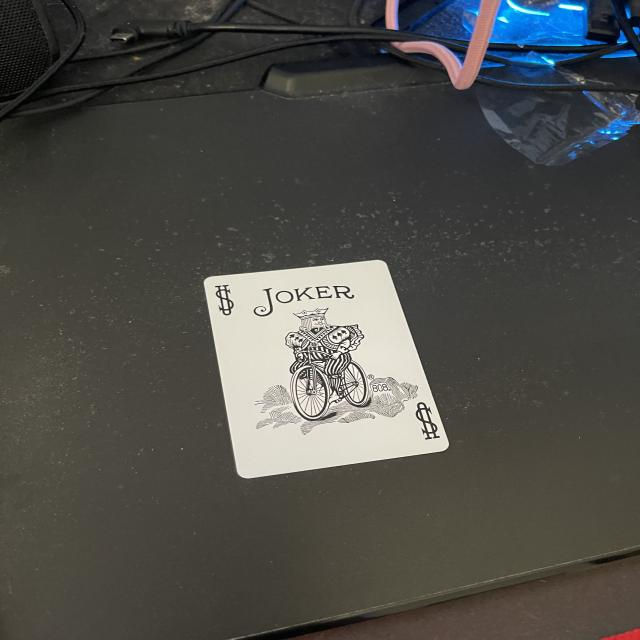Joker: (191, 264, 458, 478)
